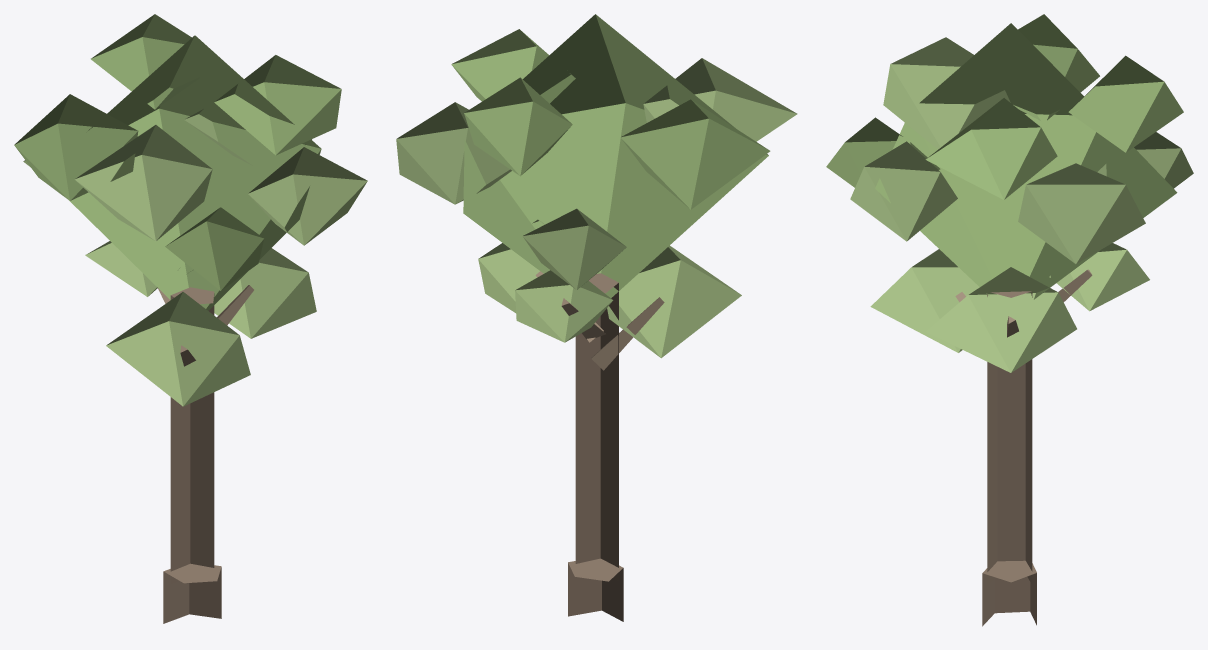
The model's file is tree.temp.ginkgo__spring.glb.
3 renders of one model, left to right at view 1: azimuth 30°, elevation 25°; view 2: azimuth 150°, elevation 25°; view 3: azimuth 270°, elevation 25°, orthographic. The views are drawn at different scales.
Parts seen in each view (by area): view 1: tree.temp.ginkgo__spring; view 2: tree.temp.ginkgo__spring; view 3: tree.temp.ginkgo__spring.
Boxes of the visible parts, x1,y1,x2,y2 form: tree.temp.ginkgo__spring: [14, 14, 367, 623]; tree.temp.ginkgo__spring: [396, 14, 797, 621]; tree.temp.ginkgo__spring: [826, 14, 1193, 626].
Bounding box in the file's own units: 8.25 × 14.35 × 7.97.
